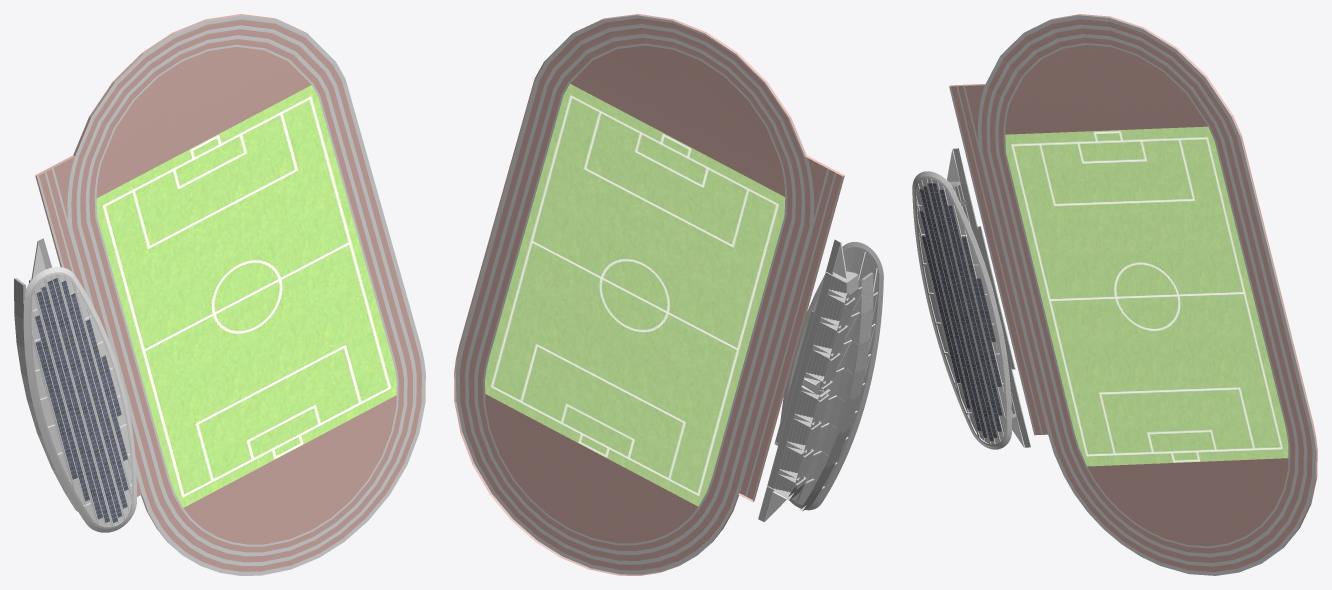
3 views of the same model, side by side, from view 1: azimuth 30°, elevation 25°; view 2: azimuth 150°, elevation 25°; view 3: azimuth 330°, elevation 25° (orthographic). The views are drawn at different scales.
Parts seen in each view (by area): view 1: 体育馆1操场3, 2体育馆1顶部太阳能板, 1体育馆1顶部太阳能板支撑, 体育馆1顶部2.2, 体育馆1顶部2.1, 1体育馆1顶部太阳能板缝隙, 体育馆1顶部2.003, 体育馆1001; view 2: 体育馆1操场3, 物件_2313, 体育馆1顶部2.1, 体育馆1001, 物件_39, 体育馆1顶部2.2, 体育馆1顶部支撑, 物件_2342, 体育馆1002; view 3: 体育馆1操场3, 2体育馆1顶部太阳能板, 1体育馆1顶部太阳能板支撑, 体育馆1顶部2.2, 体育馆1顶部2.1, 1体育馆1顶部太阳能板缝隙, 体育馆1顶部2.003, 物件_2313, 物件_2342.
Boxes of the visible parts, x1,y1,x2,y2 form: 体育馆1操场3: [35, 14, 425, 575]; 2体育馆1顶部太阳能板: [35, 277, 128, 523]; 1体育馆1顶部太阳能板支撑: [32, 274, 132, 527]; 体育馆1顶部2.2: [23, 267, 136, 532]; 体育馆1顶部2.1: [31, 274, 131, 527]; 1体育馆1顶部太阳能板缝隙: [32, 274, 132, 526]; 体育馆1顶部2.003: [29, 272, 133, 529]; 体育馆1001: [14, 278, 77, 511]; 体育馆1操场3: [454, 14, 844, 575]; 物件_2313: [767, 272, 846, 495]; 体育馆1顶部2.1: [787, 247, 879, 505]; 体育馆1001: [800, 272, 873, 511]; 物件_39: [773, 271, 858, 500]; 体育馆1顶部2.2: [780, 242, 883, 510]; 体育馆1顶部支撑: [796, 251, 877, 503]; 物件_2342: [774, 310, 814, 445]; 体育馆1002: [764, 242, 847, 521]; 体育馆1操场3: [949, 14, 1317, 575]; 2体育馆1顶部太阳能板: [919, 183, 1002, 441]; 1体育馆1顶部太阳能板支撑: [916, 178, 1005, 444]; 体育馆1顶部2.2: [912, 171, 1011, 449]; 体育馆1顶部2.1: [916, 178, 1005, 444]; 1体育馆1顶部太阳能板缝隙: [917, 178, 1005, 443]; 体育馆1顶部2.003: [915, 176, 1007, 446]; 物件_2313: [953, 184, 1022, 413]; 物件_2342: [977, 226, 1015, 369].
Bounding box in the file's own units: 132 × 173 × 10.82.
Materials: 6 (4 with a texture image).
